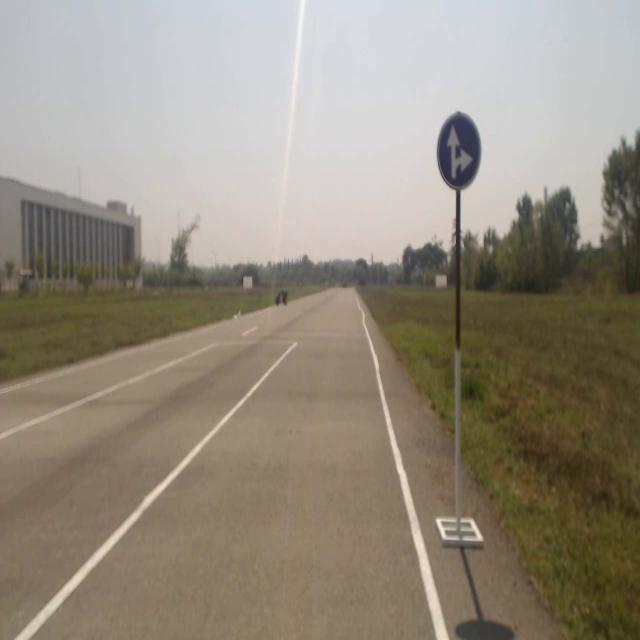ilerisag: (436, 112, 479, 187)
